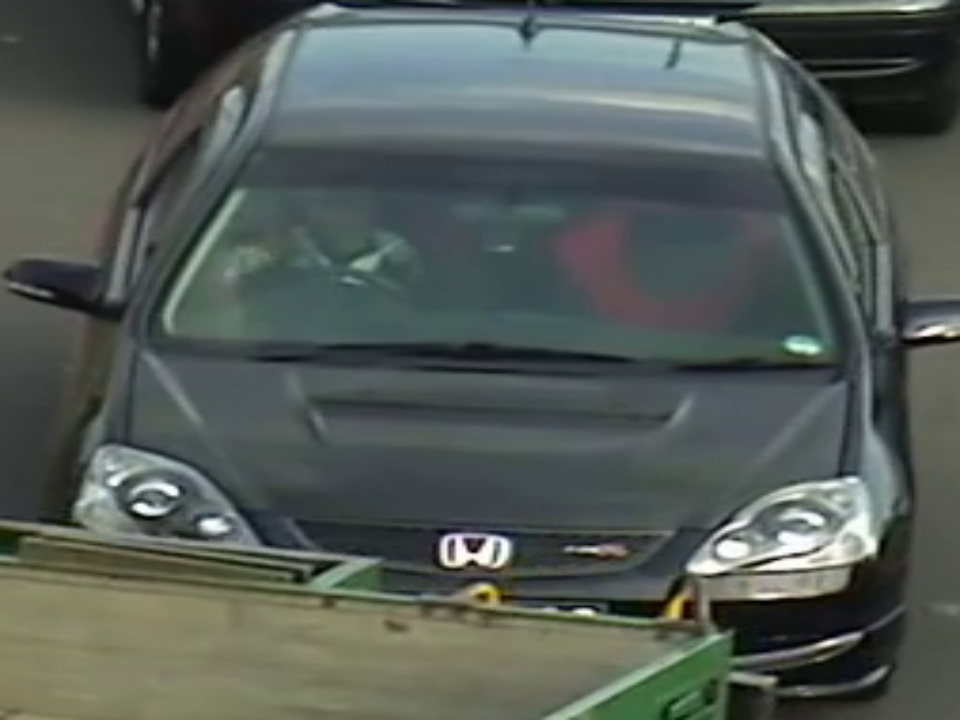ONE: (213, 182, 854, 360)
